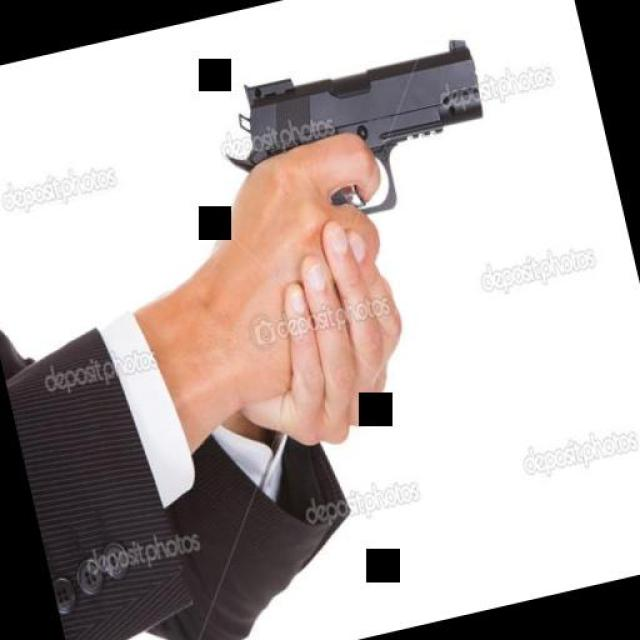gun: (212, 30, 528, 360)
